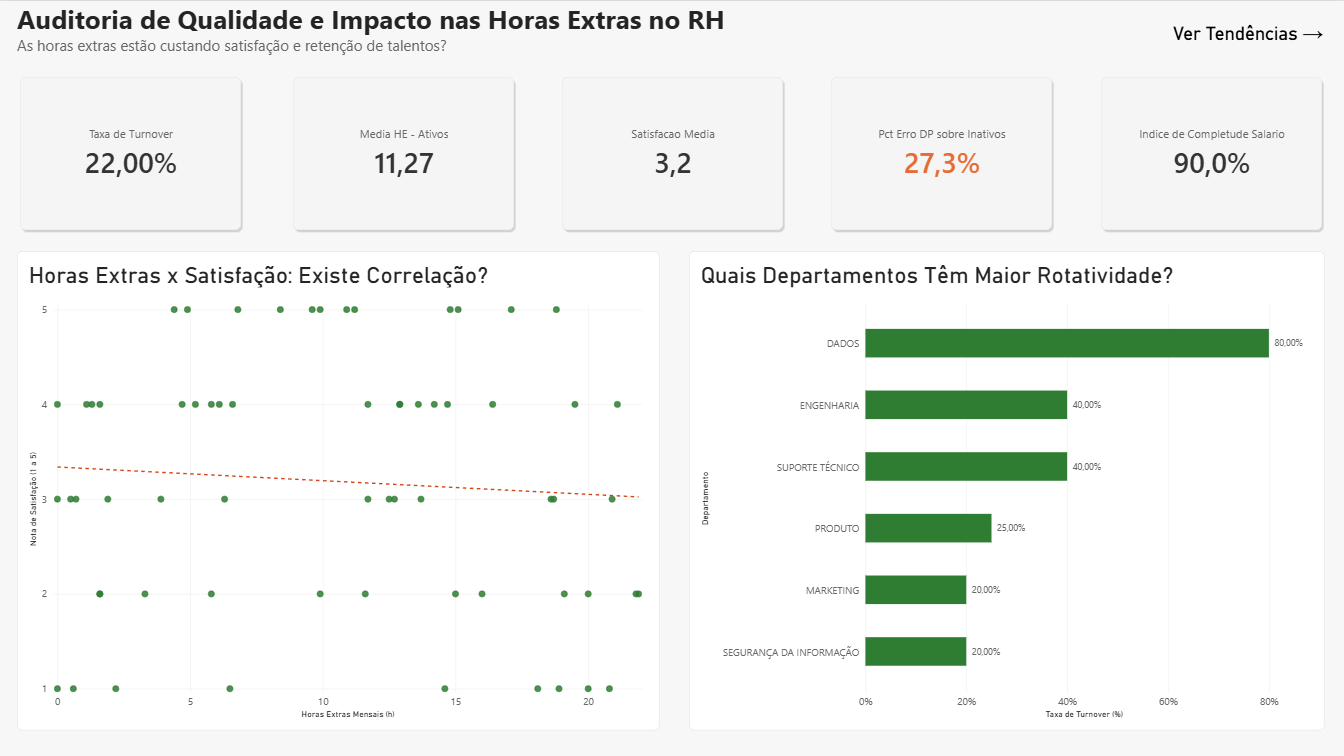

The page's visual inventory and layout, read from the dashboard file:
{"tool":"powerbi","page":{"name":"Visão Geral","canvas":[1920,1080],"ordinal":0},"visuals":[{"type":"textbox","box":[23.9,0,1016.2,49.2],"z":0},{"type":"textbox","box":[23.9,49.2,619.8,30.6],"z":1000},{"type":"cardVisual","fields":{"Data":["_Medidas.Taxa de Turnover"]},"box":[23.9,103.7,324.5,227.4],"z":2000},{"type":"cardVisual","fields":{"Data":["_Medidas.Media HE - Ativos"]},"box":[413.6,103.7,324.5,227.4],"z":3000},{"type":"cardVisual","fields":{"Data":["_Medidas.Satisfacao Media"]},"box":[798,103.7,324.5,227.4],"z":4000},{"type":"cardVisual","fields":{"Data":["_Medidas.Pct Erro DP sobre Inativos"]},"box":[1182.4,103.7,324.5,227.4],"z":5000},{"type":"cardVisual","fields":{"Data":["_Medidas.Indice de Completude Salario"]},"box":[1568.1,103.7,324.5,227.4],"z":6000},{"type":"scatterChart","title":"Horas Extras x Satisfação: Existe Correlação?","fields":{"Series":["rh_analytics_db tb_engajamento_clean.id_avaliacao"],"X":["rh_analytics_db tb_engajamento_clean.horas_extras_mensais"],"Y":["rh_analytics_db tb_engajamento_clean.nota_satisfacao_valida"]},"box":[23.9,357.8,917.7,685],"z":7000},{"type":"clusteredBarChart","title":"Quais Departamentos Têm Maior Rotatividade?","fields":{"Category":["rh_analytics_db tb_funcionarios_clean.departamento_padronizado"],"Y":["_Medidas.Taxa de Turnover"]},"box":[984.2,357.8,908.4,685],"z":8000},{"type":"actionButton","title":"Ver Tendências →","box":[1673.2,29.3,219.5,39.9],"z":9000}]}

Visuals, with their boxes in screenshot pixels (x1, y1, x2, y2), scaled from the page's 1920x1080 canvas onto the 1344x756 screenshot:
textbox: bbox=[17, 0, 728, 34]
textbox: bbox=[17, 34, 451, 56]
cardVisual - _Medidas.Taxa de Turnover: bbox=[17, 73, 244, 232]
cardVisual - _Medidas.Media HE - Ativos: bbox=[290, 73, 517, 232]
cardVisual - _Medidas.Satisfacao Media: bbox=[559, 73, 786, 232]
cardVisual - _Medidas.Pct Erro DP sobre Inativos: bbox=[828, 73, 1055, 232]
cardVisual - _Medidas.Indice de Completude Salario: bbox=[1098, 73, 1325, 232]
"Horas Extras x Satisfação: Existe Correlação?" scatterChart: bbox=[17, 250, 659, 730]
"Quais Departamentos Têm Maior Rotatividade?" clusteredBarChart: bbox=[689, 250, 1325, 730]
"Ver Tendências →" actionButton: bbox=[1171, 21, 1325, 48]
